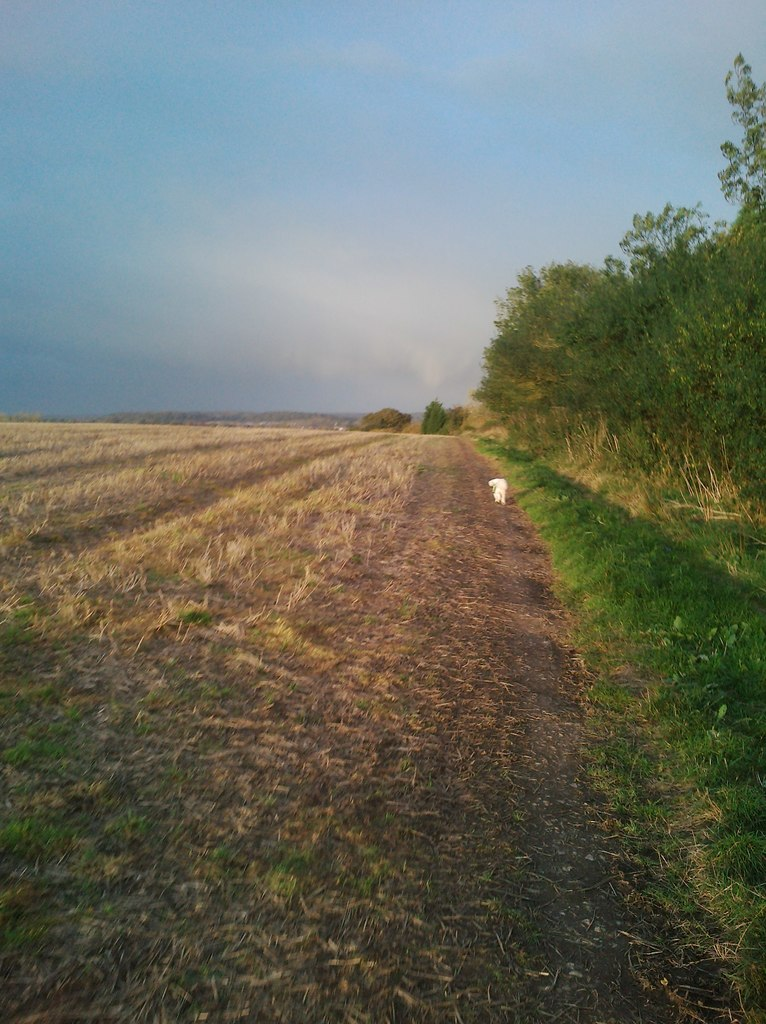Tree: (359, 51, 766, 532)
